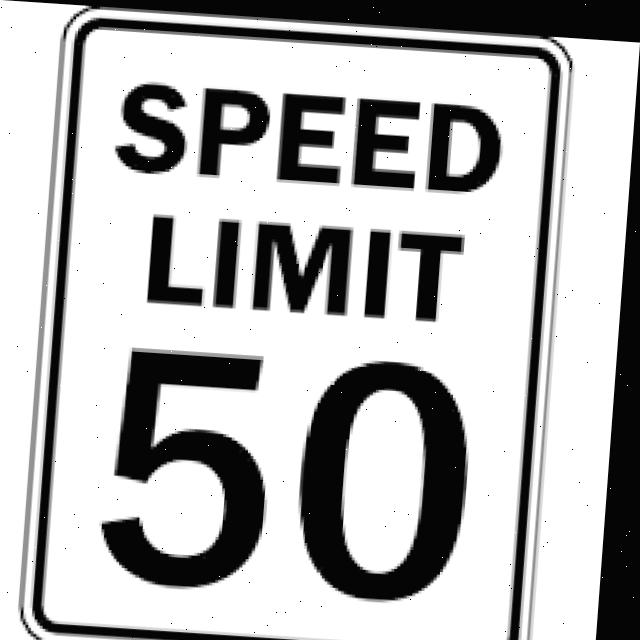Speed limit 50: (24, 310, 560, 640)
